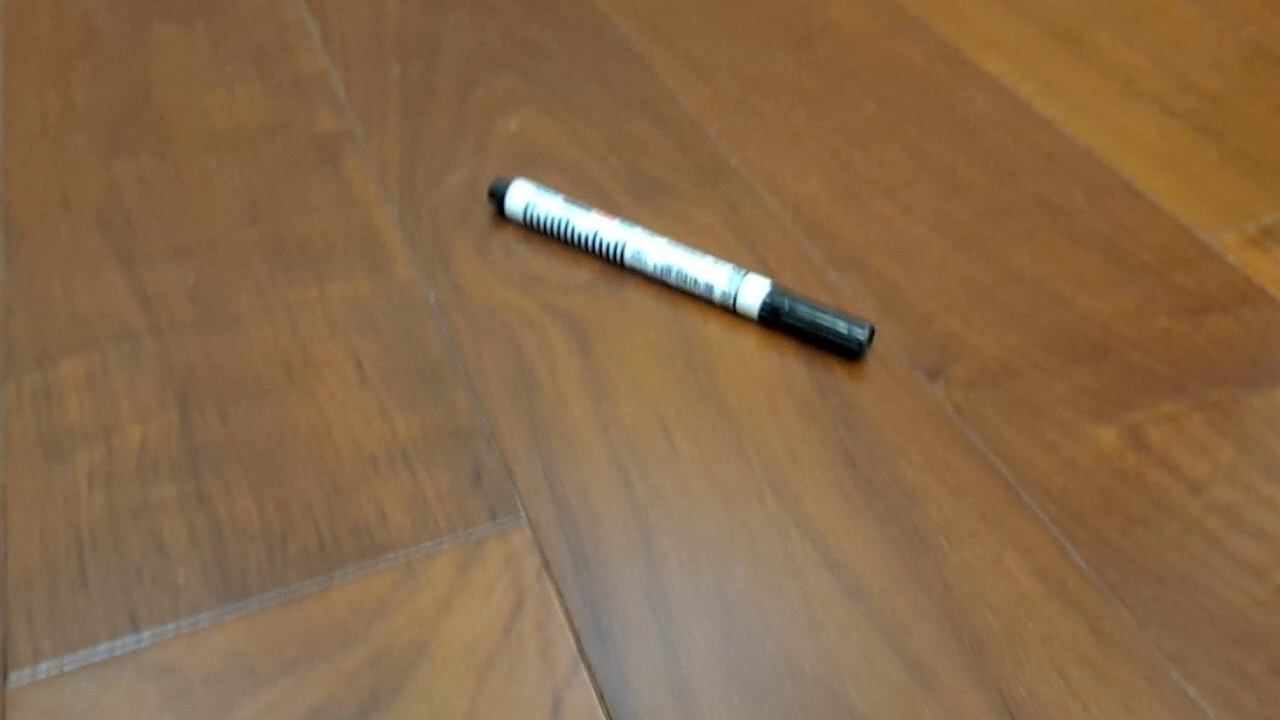pen: (486, 174, 876, 363)
